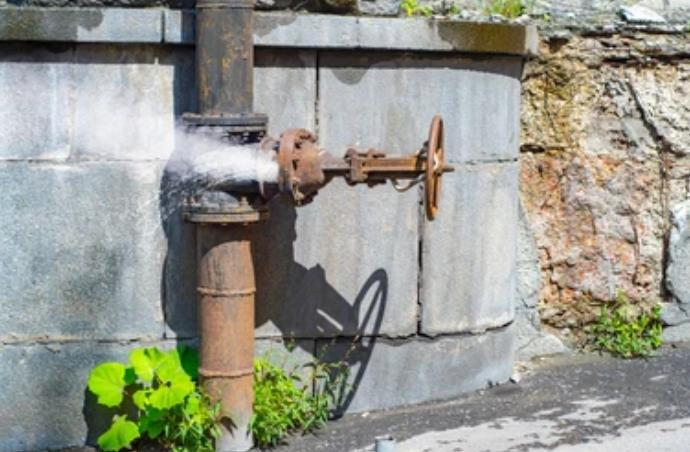pipe burst: (43, 84, 286, 188)
